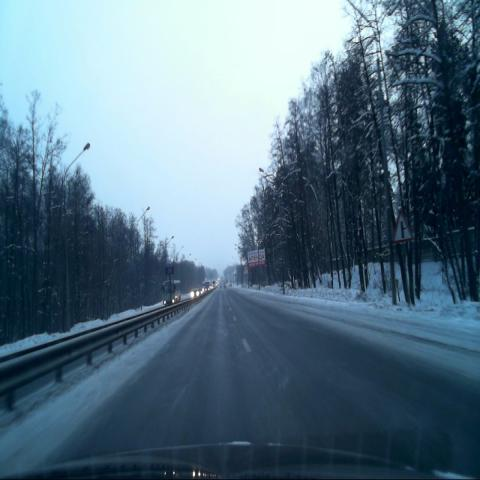2_3_2: (393, 209, 413, 244)
